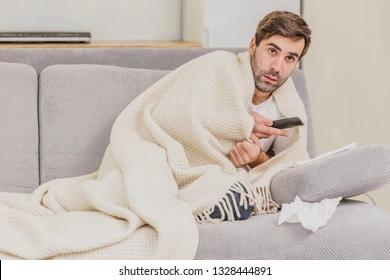blanket: (0, 49, 311, 260)
